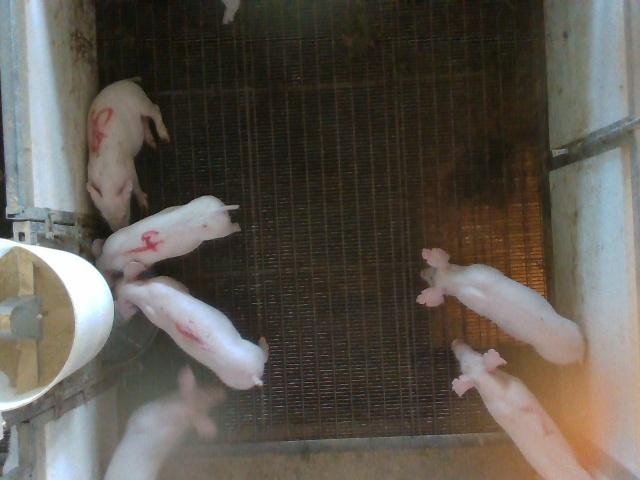pig-1: (116, 262, 269, 389)
pig-2: (452, 340, 591, 479)
pig-4: (96, 195, 239, 277)
pig-5: (88, 80, 169, 231)
